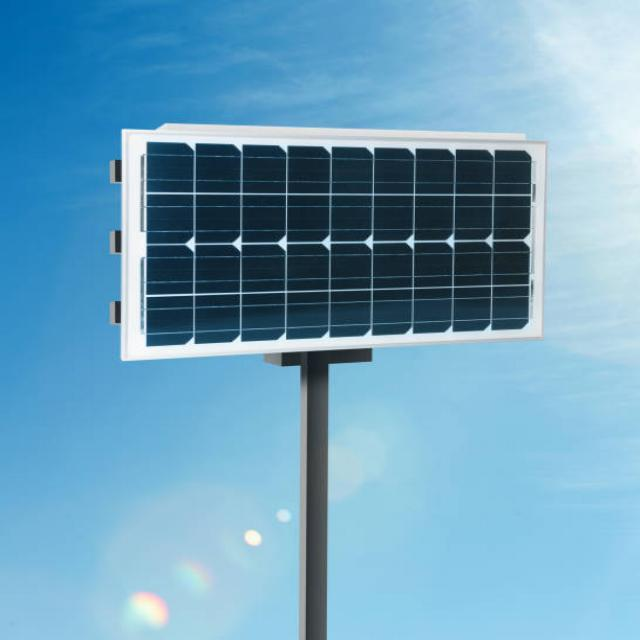no faulty: (131, 134, 543, 357)
